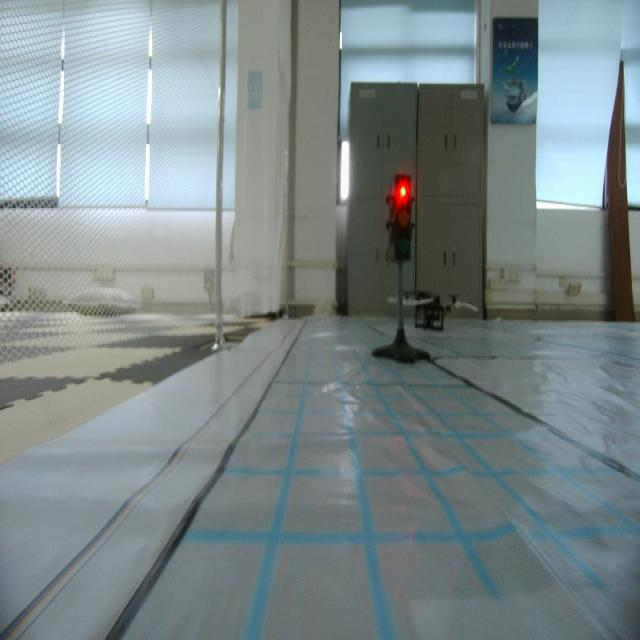red: (386, 168, 417, 273)
